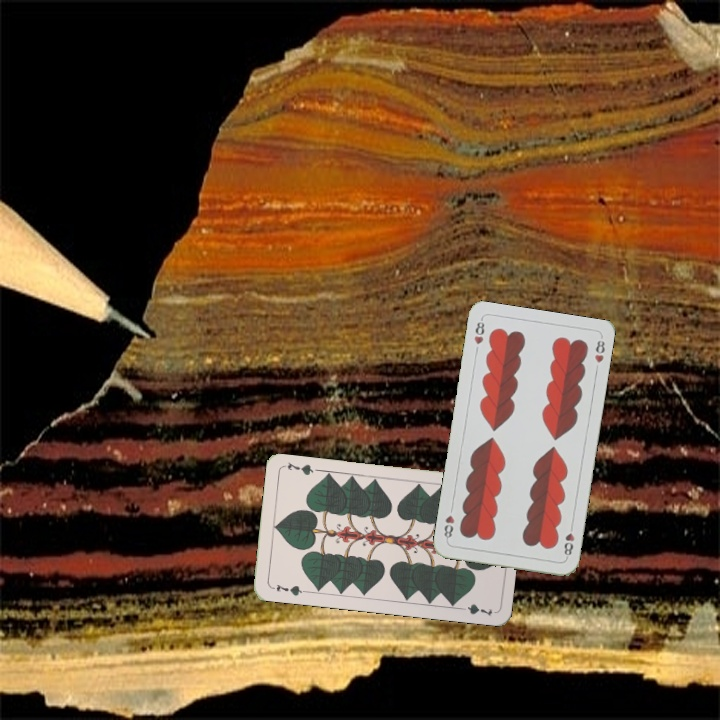G7: (268, 580, 308, 598)
H8: (560, 520, 577, 561), (470, 315, 487, 347)
